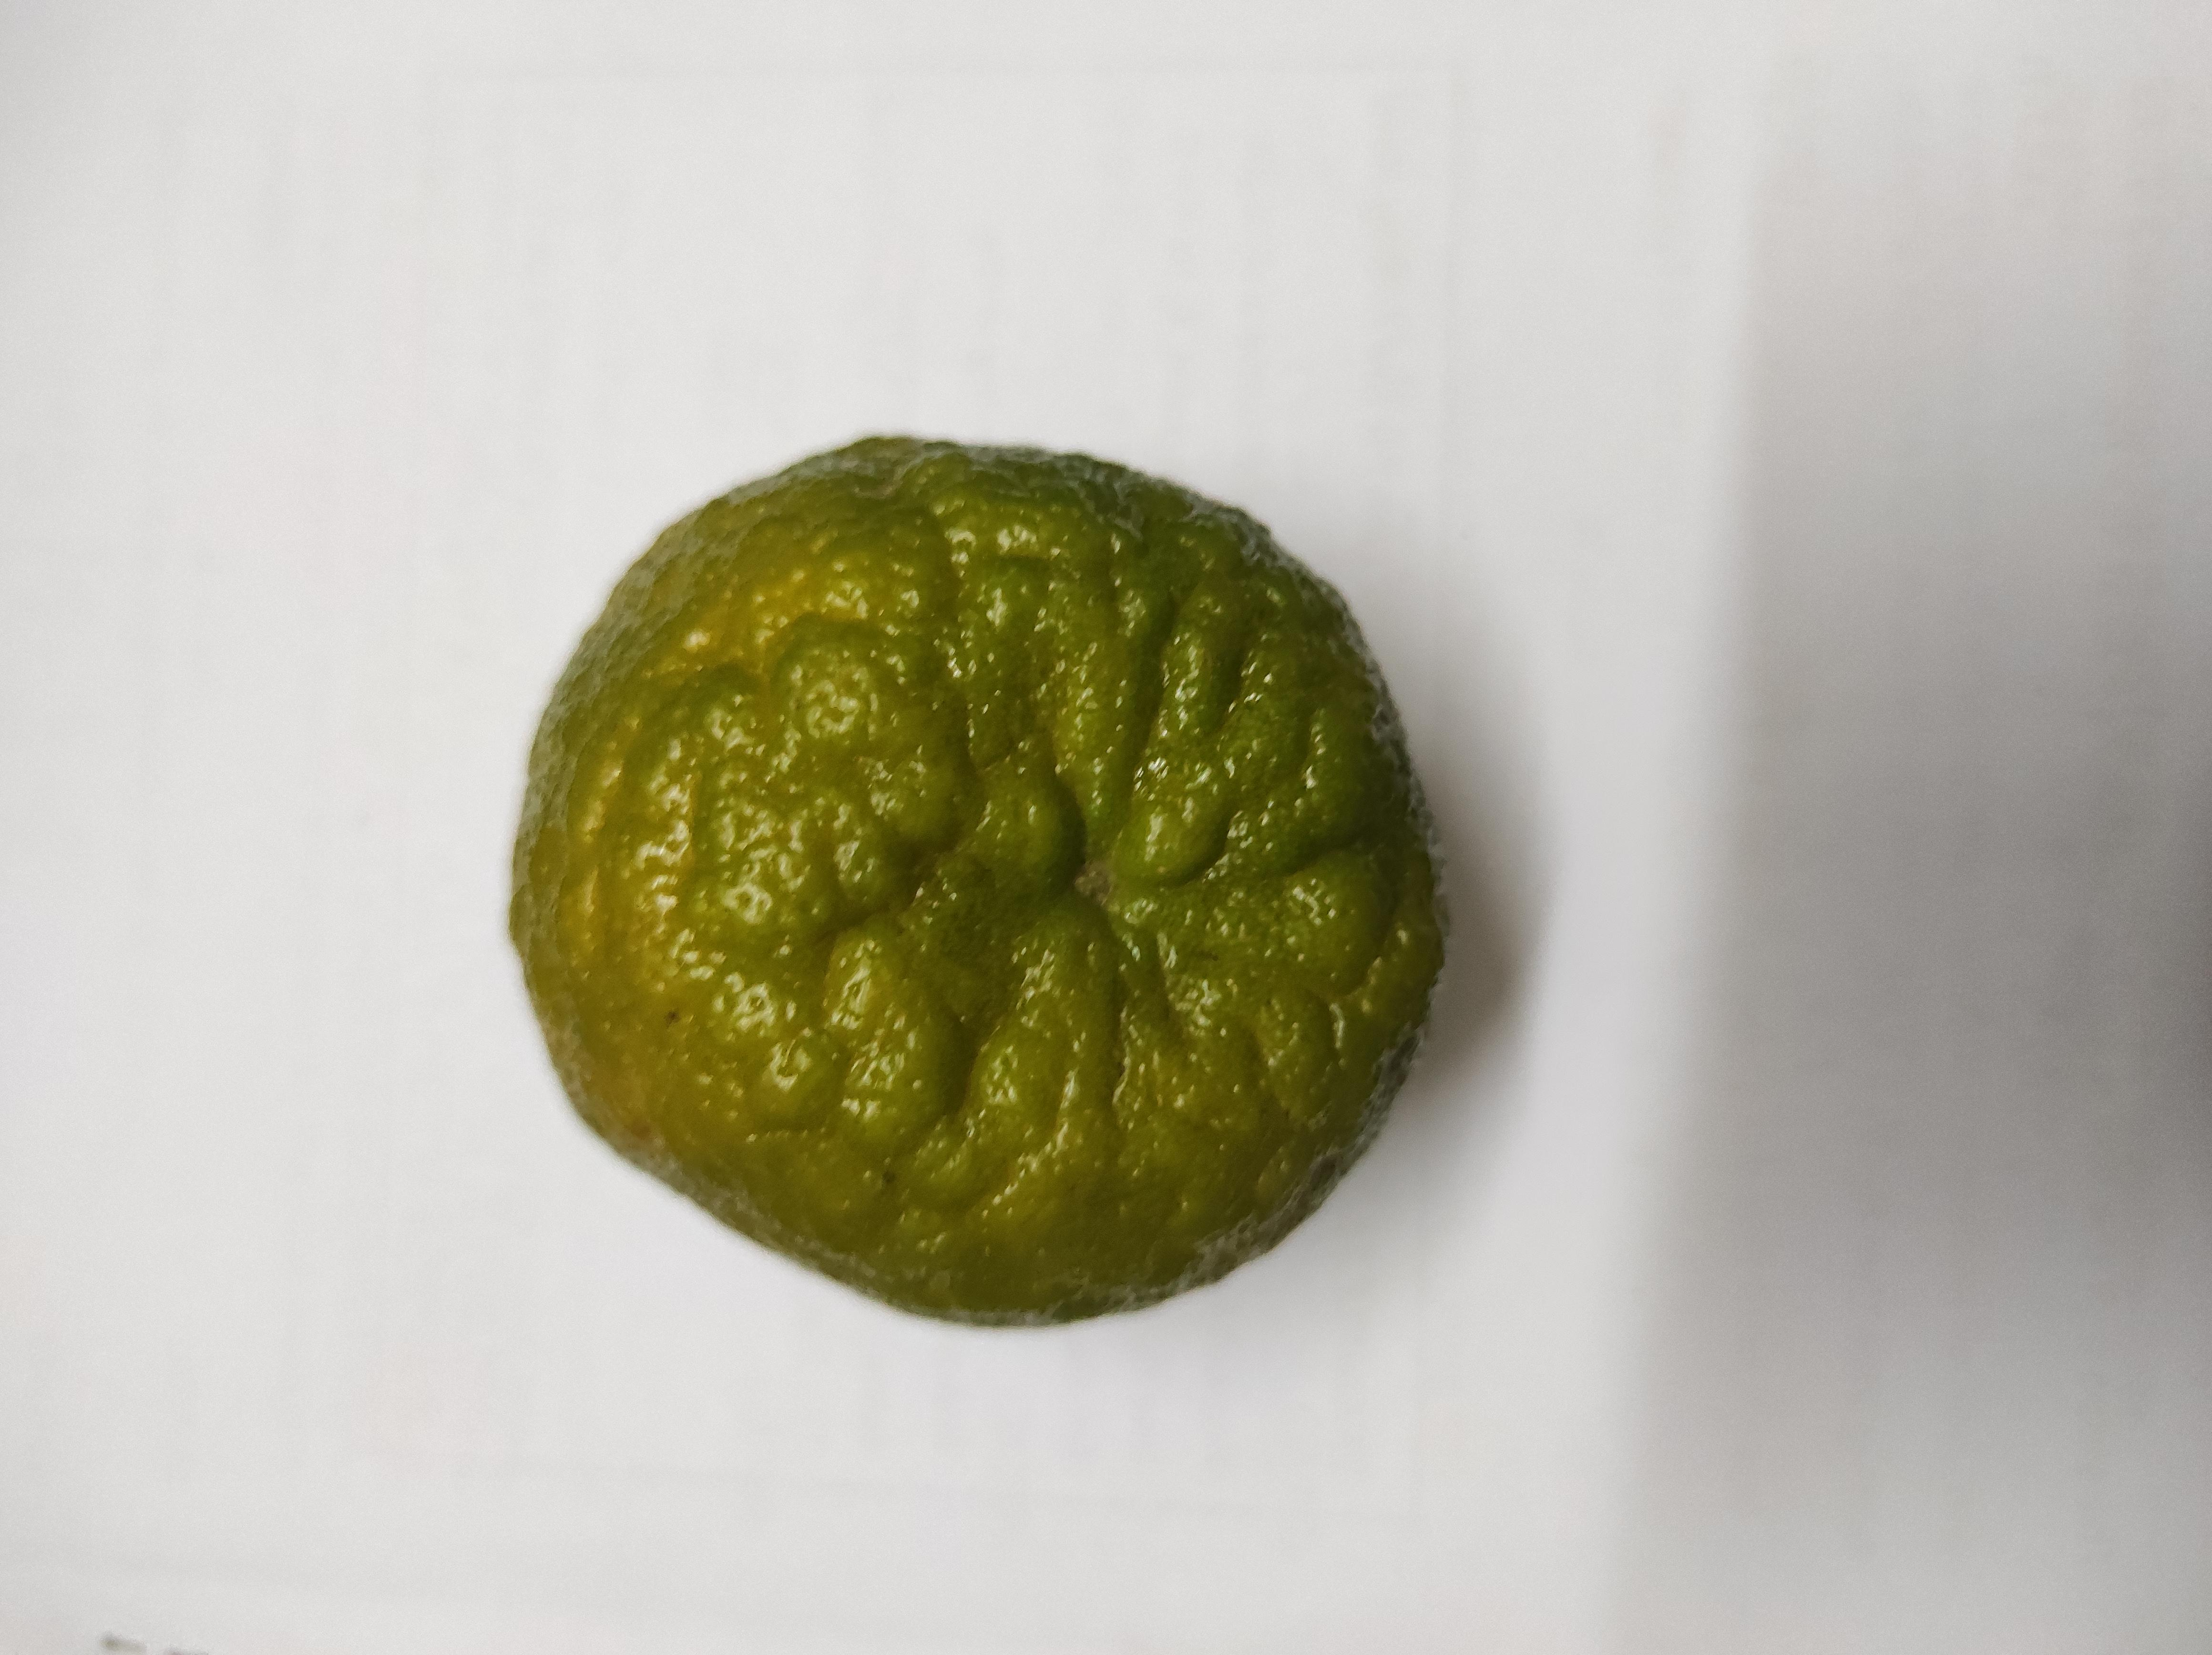Unripe: (525, 438, 1449, 1316)
